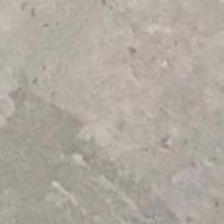Non_Crack: (26, 30, 177, 180)
